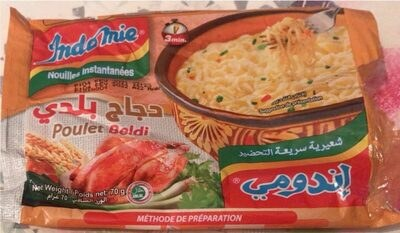Indomie: (20, 12, 380, 221)
